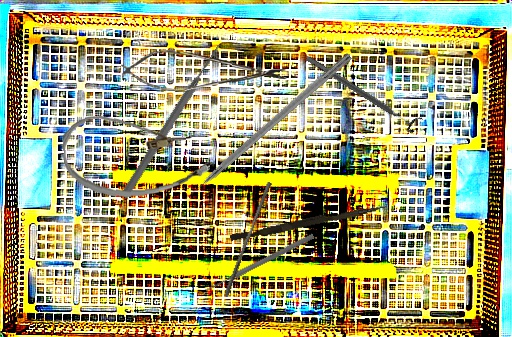Cannula: (61, 108, 212, 201)
Fixation Ring: (301, 48, 424, 136)
Hook Surgical: (179, 51, 353, 203)
Micro Scissor: (117, 49, 290, 94)
Pusher: (118, 41, 225, 201), (229, 199, 388, 245), (203, 231, 316, 295), (223, 180, 273, 299)
